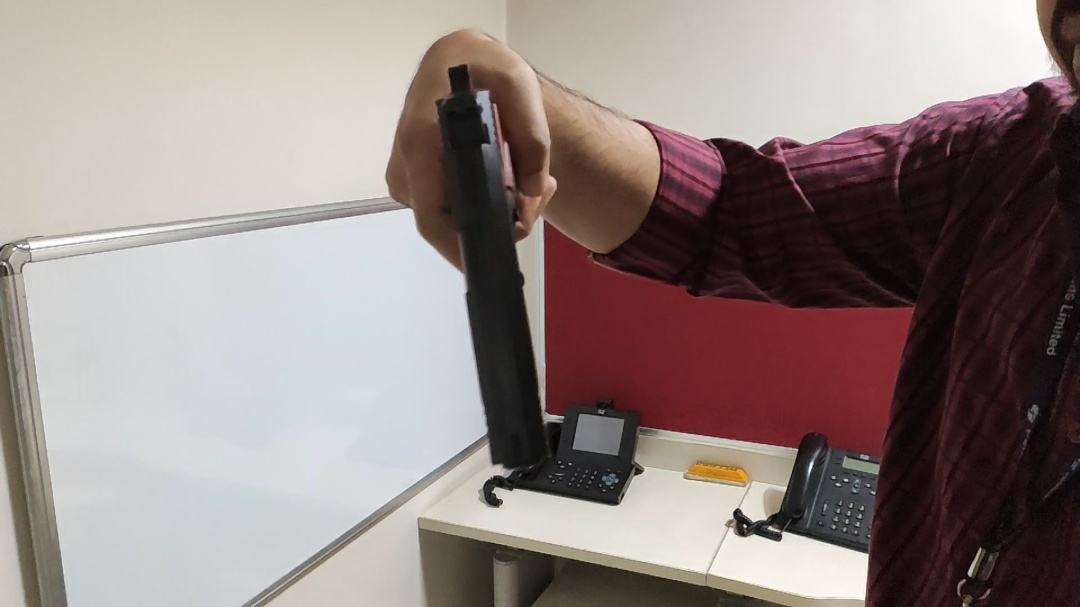gun: (401, 44, 580, 476)
